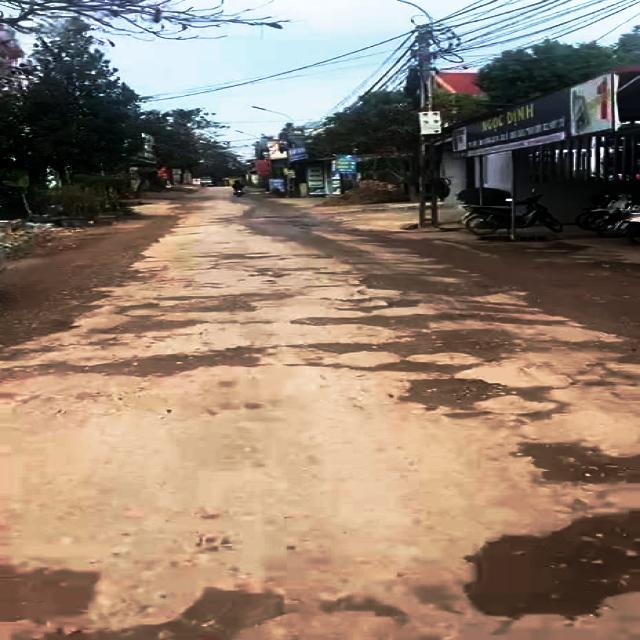pothole: (0, 561, 284, 640), (454, 508, 640, 627), (280, 308, 526, 373), (87, 288, 288, 336), (0, 345, 270, 378), (396, 373, 574, 422), (349, 270, 512, 307), (517, 437, 640, 485)
